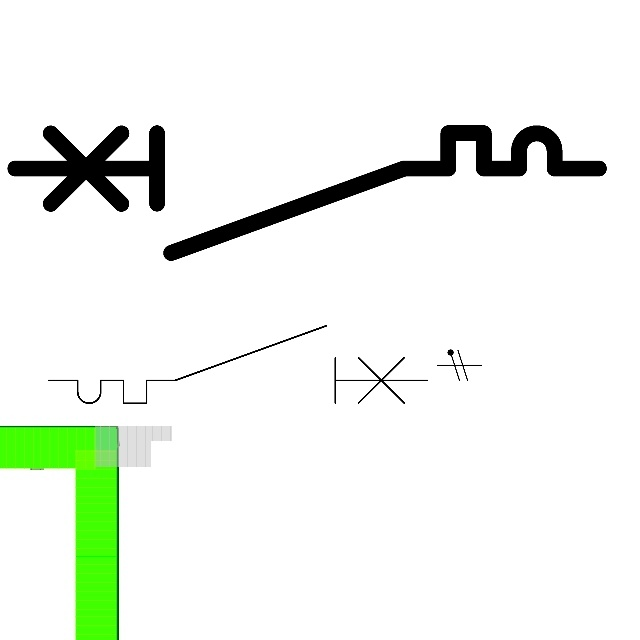interruptor_termomagnetico: (0, 118, 614, 268), (39, 316, 437, 413)
